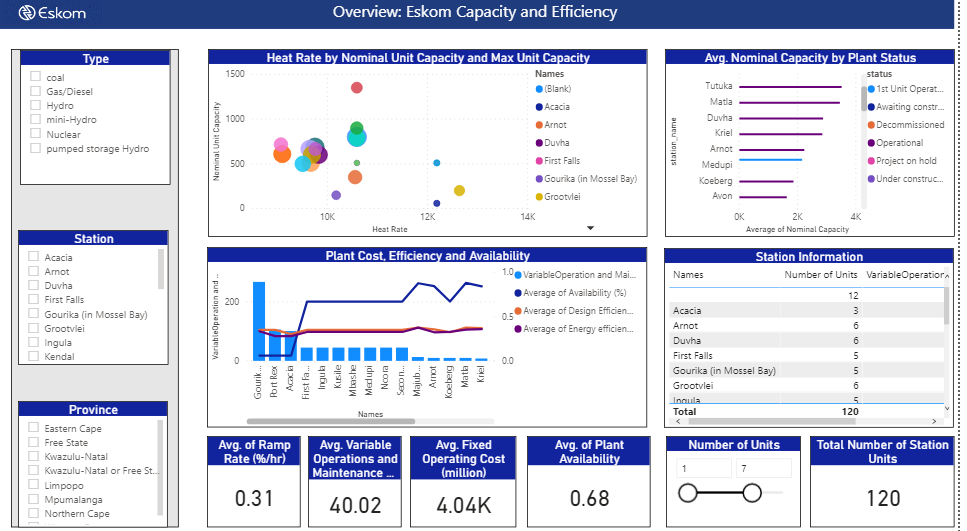

The dashboard page shown, as its layout file describes it:
{"tool":"powerbi","page":{"name":"Capacity and Efficiency","canvas":[1280,720],"ordinal":1},"visuals":[{"type":"textbox","box":[14.5,72.7,224.2,638.8],"z":0},{"type":"slicer","title":"Type","fields":{"Values":["Eskom- Capacities.Fuel Type"]},"box":[26.2,72.9,200.9,180.3],"z":1000},{"type":"slicer","title":"Station","fields":{"Values":["Eskom-Capacities.Names"]},"box":[23.4,313.8,200.9,180.3],"z":2000},{"type":"clusteredBarChart","title":"Avg. Nominal Capacity by Plant Status","fields":{"Category":["stations.station_name"],"Y":["Avg(stations_dynamics.nominal_capacity_MW)"],"Series":["stations_status_info.status"]},"box":[888.5,72.7,386.7,250.9],"z":3000},{"type":"slicer","title":"Province","fields":{"Values":["Eskom- Capacities.Province"]},"box":[23.4,542.3,199.6,169.3],"z":4000},{"type":"textbox","box":[-4.8,1.2,1280,43.6],"z":5000},{"type":"image","box":[0,2.4,140.6,42.4],"z":6000},{"type":"scatterChart","title":"Heat Rate by Nominal Unit Capacity and Max Unit Capacity","fields":{"Series":["Eskom-Capacities.Names"],"Size":["Avg(Eskom- Capacities.Max Nominal capacity (MW))"],"X":["Sum(Eskom- Efficiencies.Heat Rate)"],"Y":["Avg(Eskom- Capacities.Nominal Unit capacity (MW))"]},"box":[277.6,72.7,586.7,250.9],"z":7000},{"type":"lineClusteredColumnComboChart","title":"Plant Cost, Efficiency and Availability","fields":{"Y":["Sum(Eskom- Efficiencies.VariableOperation and Maintenance Costs)"],"Y2":["Avg(Eskom- Efficiencies.Availability (%))","Avg(Eskom- Efficiencies.Design Efficiency (MCR)(%))","Avg(Eskom- Efficiencies.Energy efficiency (%))"],"Category":["Eskom- Efficiencies.Names"]},"box":[276.4,337,587.9,241.2],"z":8000},{"type":"card","title":"Avg. Fixed Operating Cost (million)","fields":{"Values":["Sum(Eskom- Efficiencies.Fixed Operation and Maintenance Costs)"]},"box":[547.8,589.1,141.8,122.5],"z":9000},{"type":"card","title":"Avg. of Plant Availability","fields":{"Values":["Avg(Eskom- Efficiencies.Availability (%))"]},"box":[703.3,589.1,165.2,122.5],"z":10000},{"type":"card","title":"Total Number of Station Units","fields":{"Values":["Sum(Eskom- Capacities.Number of Units)"]},"box":[1081.8,589.1,192.7,122.5],"z":11000},{"type":"tableEx","title":"Station Information","fields":{"Values":["Eskom-Capacities.Names","Sum(Eskom- Capacities.Number of Units)","Sum(Eskom- Efficiencies.VariableOperation and Maintenance Costs)"]},"box":[887.3,338.2,386.7,240],"z":12000},{"type":"slicer","title":"Number of Units","fields":{"Values":["Eskom- Capacities.Number of Units"]},"box":[889.1,589.1,180.3,122.5],"z":13000},{"type":"card","title":"Avg. of Ramp Rate (%/hr)","fields":{"Values":["Avg(Eskom- Efficiencies.Ramp Rate (%/hour))"]},"box":[276.6,589.1,125.2,122.5],"z":14000},{"type":"card","title":"Avg. Variable Operations and Maintenance Costs (million)","fields":{"Values":["Avg(Eskom- Efficiencies.VariableOperation and Maintenance Costs)"]},"box":[411.5,589.1,125.2,122.5],"z":15000}]}

Visuals, with their boxes in screenshot pixels (x1, y1, x2, y2), scaled from the page's 1280x720 canvas onto the 967x531 screenshot:
textbox: (11, 54, 180, 525)
"Type" slicer: (20, 54, 172, 187)
"Station" slicer: (18, 231, 169, 364)
"Avg. Nominal Capacity by Plant Status" clusteredBarChart: (671, 54, 963, 239)
"Province" slicer: (18, 400, 168, 525)
textbox: (0, 1, 963, 33)
image: (0, 2, 106, 33)
"Heat Rate by Nominal Unit Capacity and Max Unit Capacity" scatterChart: (210, 54, 653, 239)
"Plant Cost, Efficiency and Availability" lineClusteredColumnComboChart: (209, 249, 653, 426)
"Avg. Fixed Operating Cost (million)" card: (414, 434, 521, 525)
"Avg. of Plant Availability" card: (531, 434, 656, 525)
"Total Number of Station Units" card: (817, 434, 963, 525)
"Station Information" tableEx: (670, 249, 962, 426)
"Number of Units" slicer: (672, 434, 808, 525)
"Avg. of Ramp Rate (%/hr)" card: (209, 434, 304, 525)
"Avg. Variable Operations and Maintenance Costs (million)" card: (311, 434, 405, 525)
